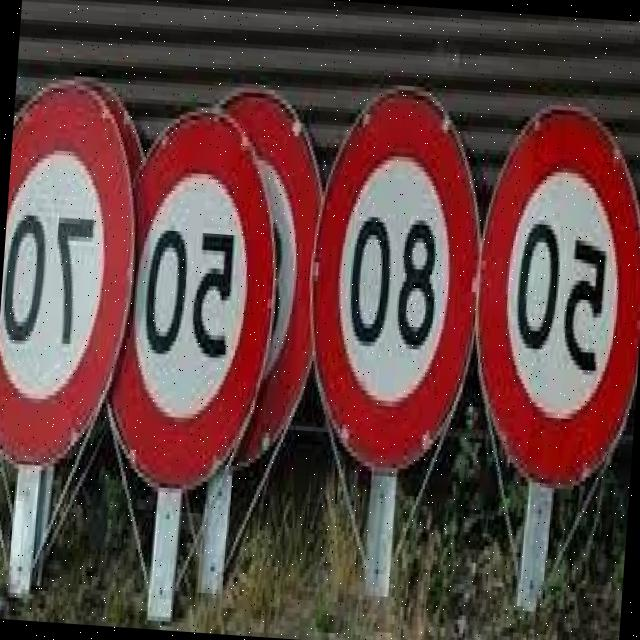speed_limit_50: (102, 53, 291, 504), (462, 82, 640, 484)
speed_limit_70: (0, 45, 149, 462)
speed_limit_80: (295, 54, 494, 483)
